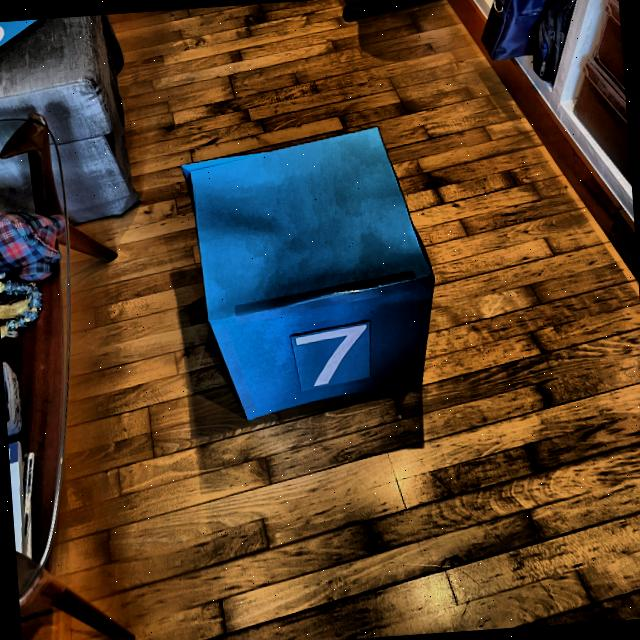blue box: (179, 120, 444, 426)
seven: (289, 320, 373, 390)
